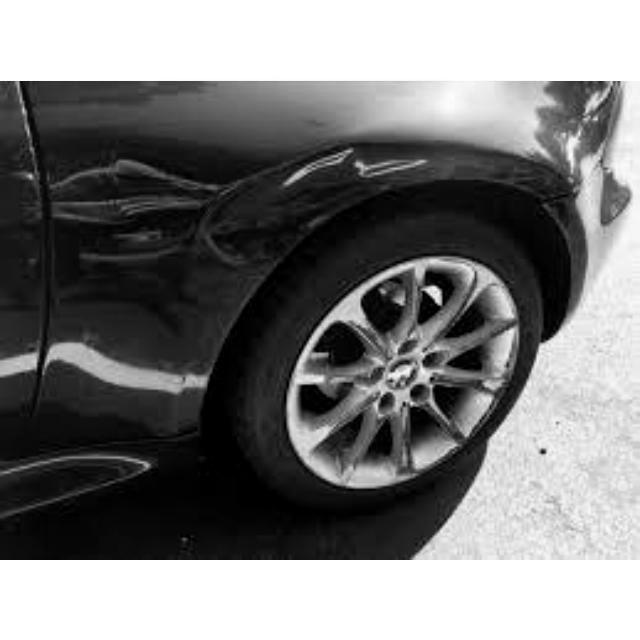quaterpanel-dent: (106, 81, 338, 394)
